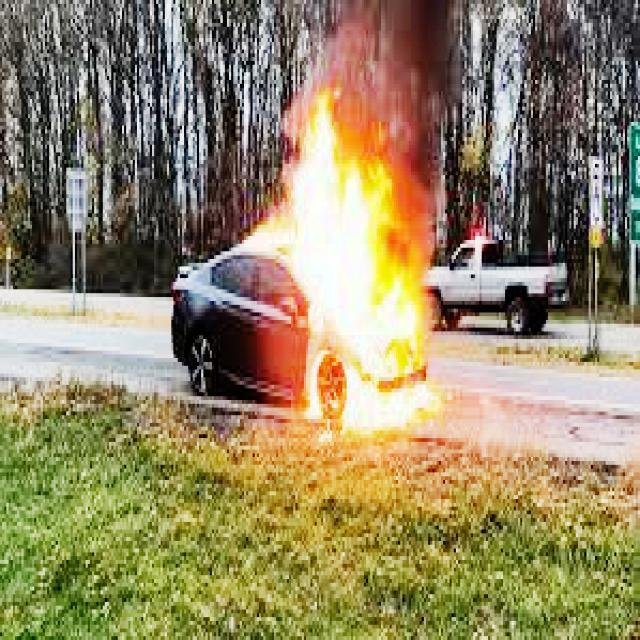api: (262, 104, 459, 443)
